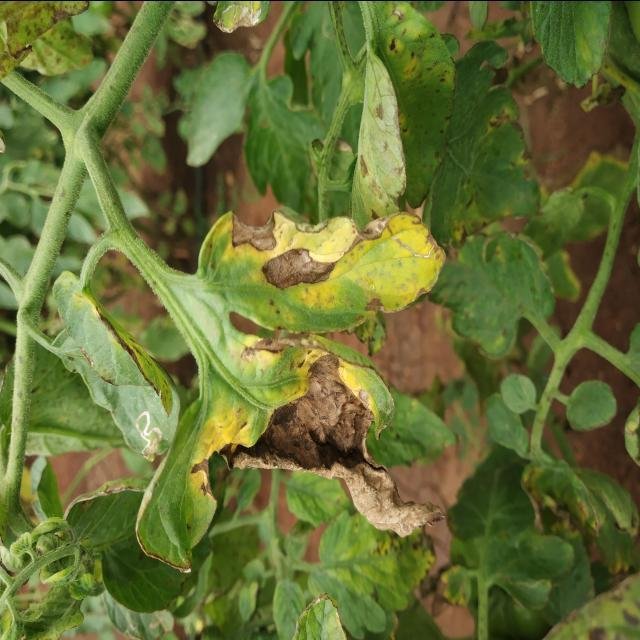Tomato mosaic virus leaf: (176, 334, 451, 574), (197, 206, 450, 332)
